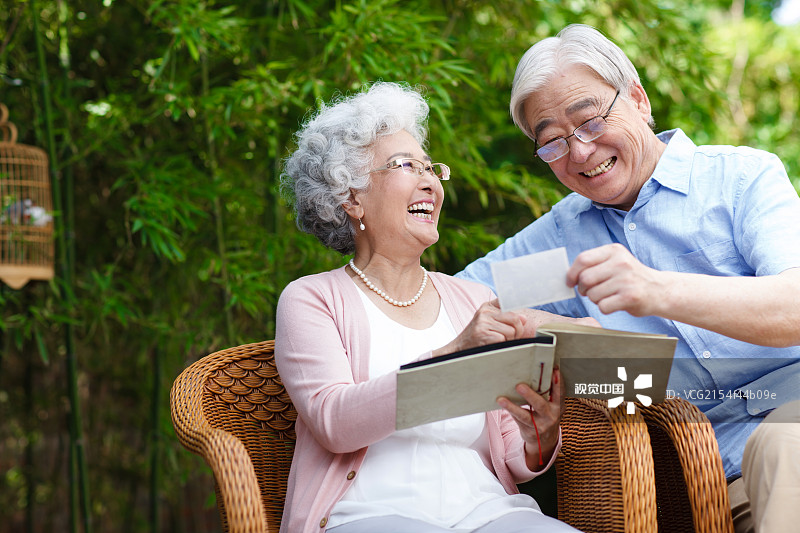no-phone: (551, 233, 683, 324), (493, 359, 573, 459), (439, 290, 537, 349)
